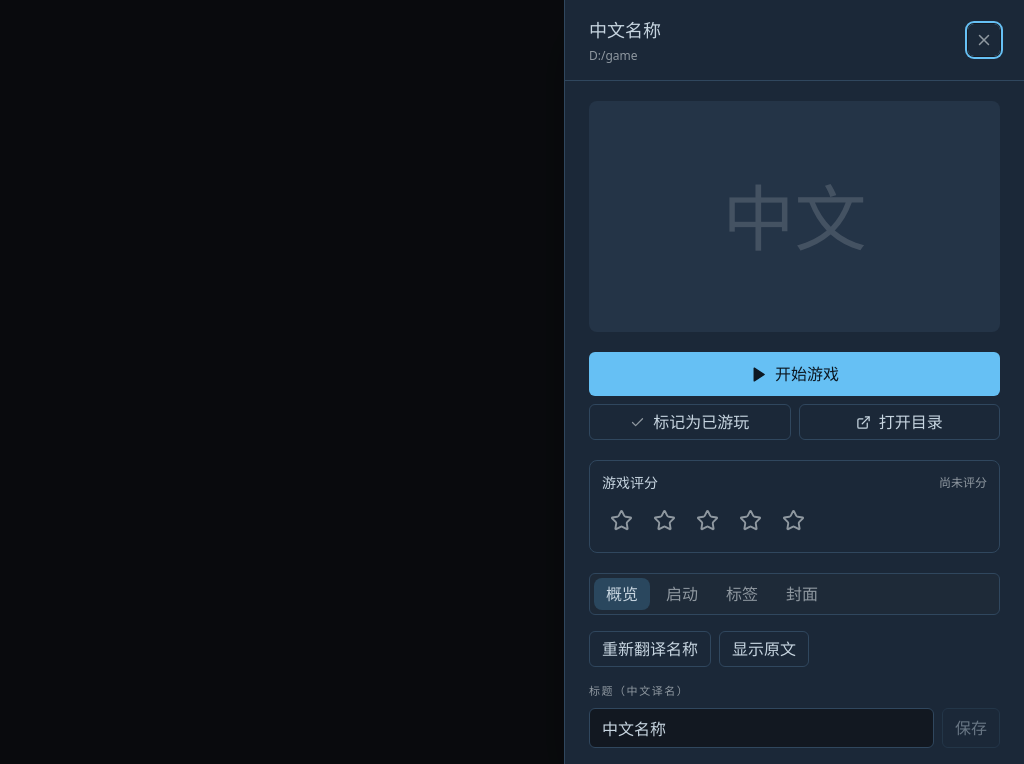
Test case: switches back to the original without sending a new translation request
The width and height of the screenshot is (1024, 764).
Click the button "显示原文": (764, 649) x1=719 y1=631 x2=809 y2=667
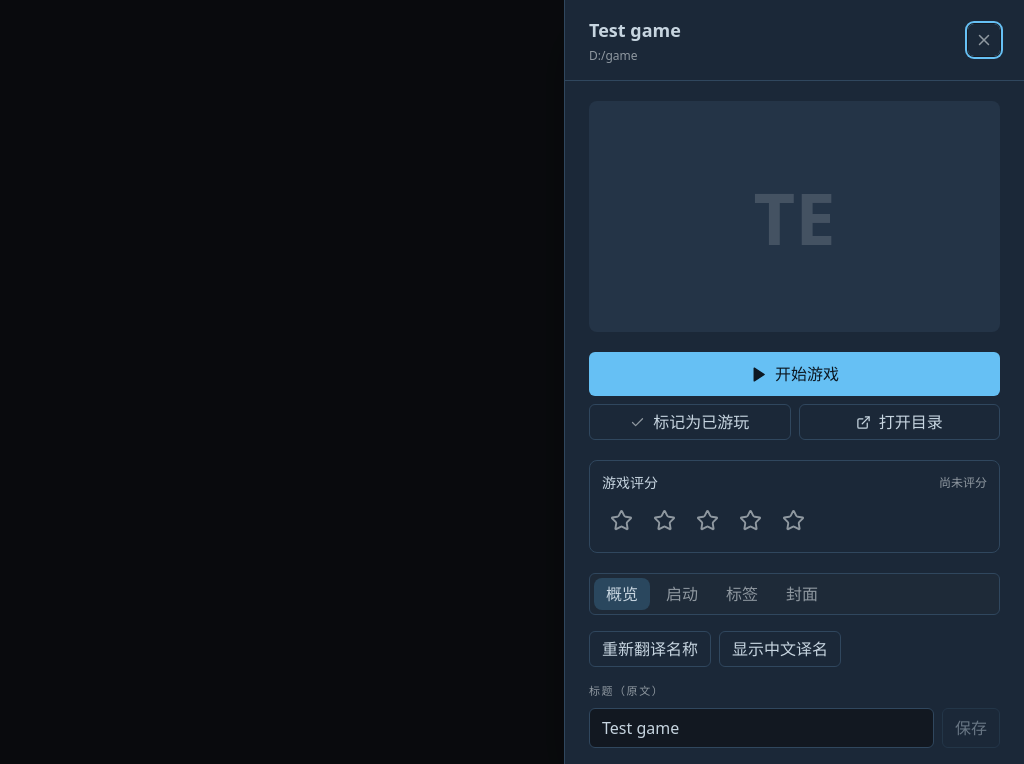
Expected: the field named "游戏标题" holds "Test game", x1=589 y1=708 x2=934 y2=748
